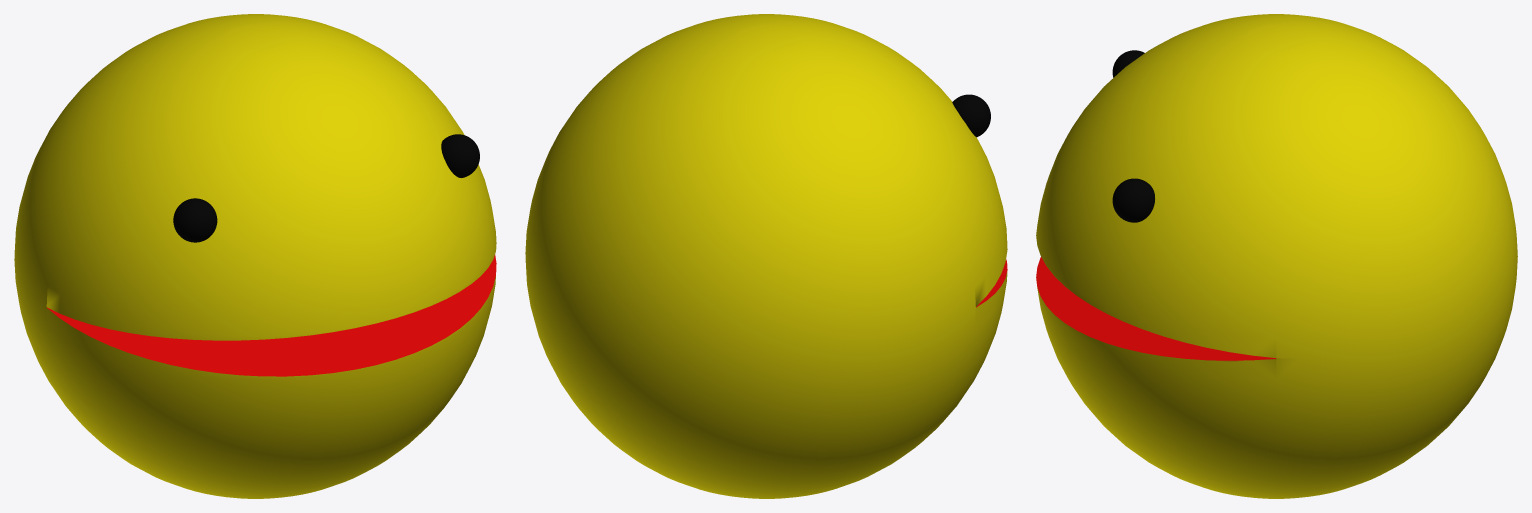
File: pacman2.obj
The picture shows the model from 3 angles, left to right: view 1: azimuth 30°, elevation 25°; view 2: azimuth 150°, elevation 25°; view 3: azimuth 270°, elevation 25°; orthographic projection.
Visible parts, largest first — view 1: Body; view 2: Body; view 3: Body.
Part boxes in pixels (x1,y1,x2,y2): Body: [14, 14, 496, 498]; Body: [525, 14, 1007, 498]; Body: [1036, 14, 1517, 498].
Size of the model in its own units: 6.6 by 6.67 by 6.59.
Materials: 1 (1 with a texture image).
